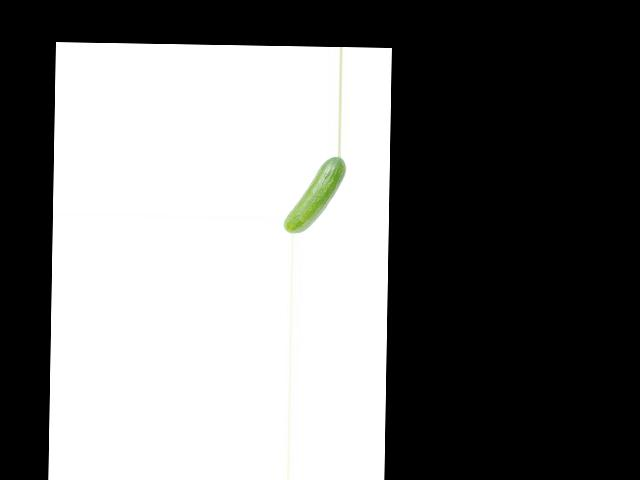cucumber: (283, 155, 346, 234)
